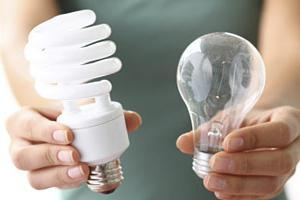Light_bulb: (24, 8, 131, 197), (173, 28, 268, 184)
